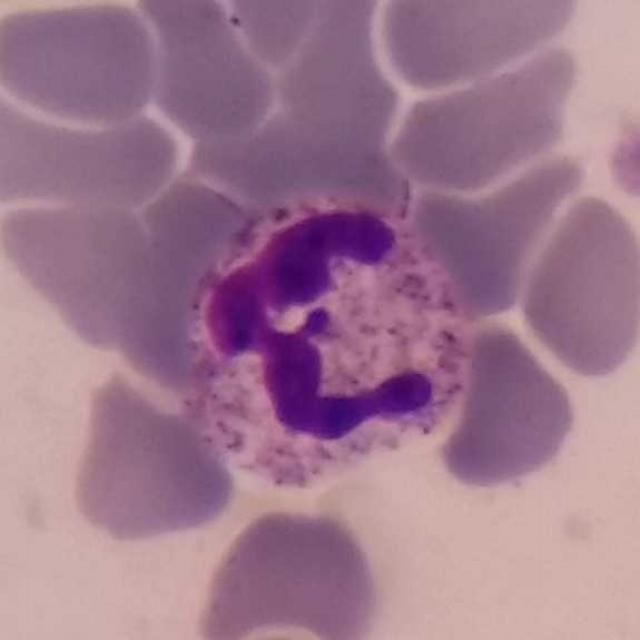Neutrophil: (179, 188, 480, 509)
Platelets: (602, 113, 640, 206)
RBC: (64, 362, 242, 548), (385, 33, 584, 196), (424, 316, 582, 495), (189, 502, 388, 640), (0, 64, 183, 212), (0, 189, 165, 347), (514, 189, 640, 382), (130, 1, 281, 141), (0, 0, 164, 128), (236, 98, 415, 213), (373, 0, 588, 91), (217, 0, 368, 67)
